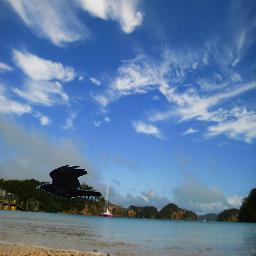Crow: (36, 165, 102, 202)
